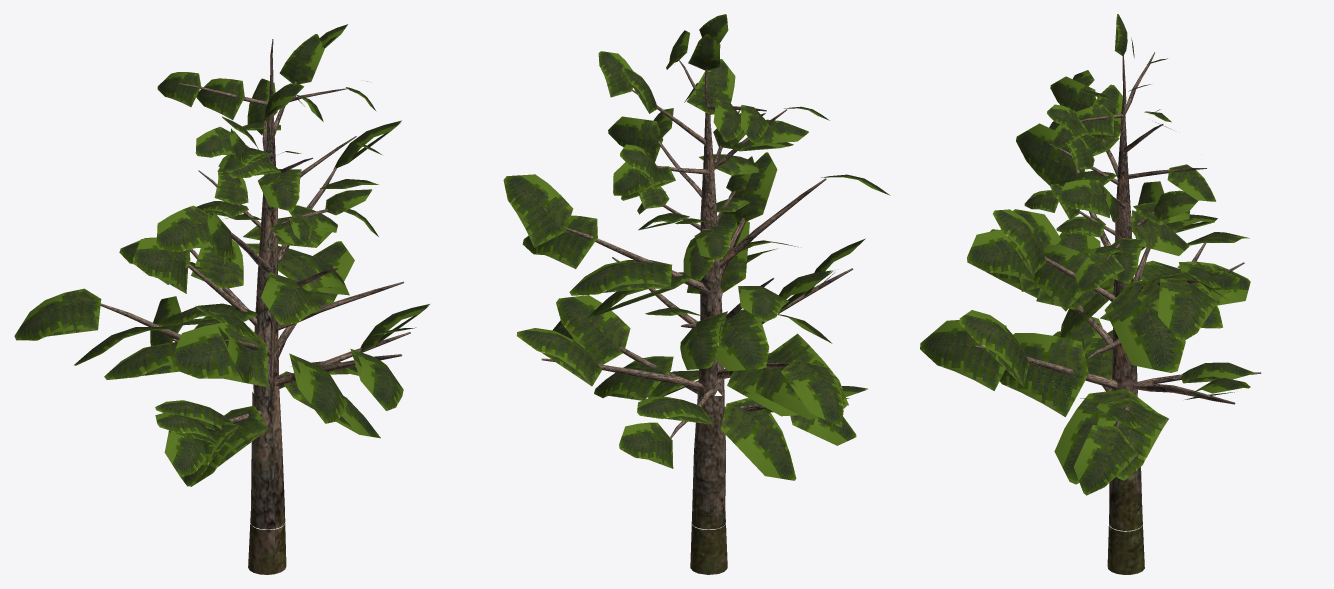
Rendered from pine-tree.glb.
The picture shows the model from 3 angles, left to right: view 1: azimuth 30°, elevation 25°; view 2: azimuth 150°, elevation 25°; view 3: azimuth 270°, elevation 25°; orthographic projection. The views are drawn at different scales.
Parts seen in each view (by area): view 1: high, low; view 2: high, low; view 3: high, low.
Part boxes in pixels (bbox=[...]): high: bbox=[14, 24, 429, 574]; low: bbox=[47, 34, 428, 574]; high: bbox=[503, 14, 890, 574]; low: bbox=[541, 31, 867, 529]; high: bbox=[920, 14, 1261, 574]; low: bbox=[982, 25, 1254, 574].
Size of the model in its own units: 2.83 by 4 by 2.65.
3 materials, 2 textured.
